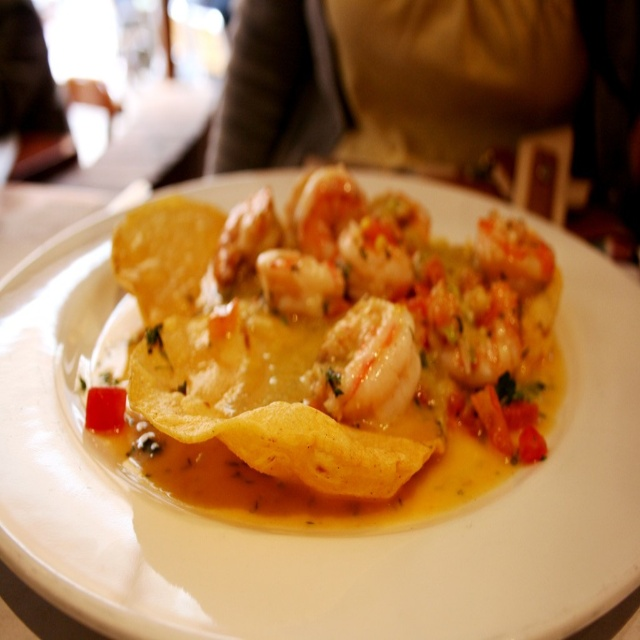Shrimp: (211, 161, 563, 428)
